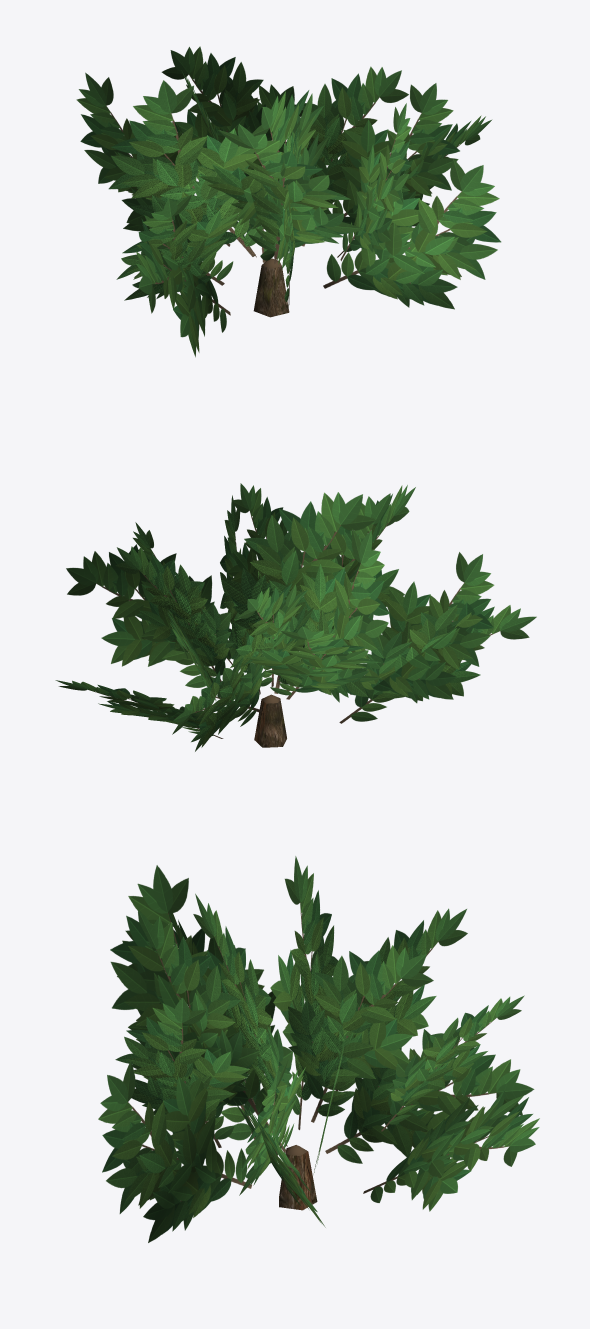
File: veg_shrub_hedge_a.glb
3 renders of one model, top to bottom at view 1: azimuth 30°, elevation 25°; view 2: azimuth 150°, elevation 25°; view 3: azimuth 270°, elevation 25°, orthographic. The views are drawn at different scales.
Visible parts, largest first — view 1: Leaves, Trunk; view 2: Leaves, Trunk; view 3: Leaves, Trunk.
Part boxes in pixels (x1,y1,x2,y2): Leaves: (76,46,501,357); Trunk: (253,258,289,317); Leaves: (55,483,536,751); Trunk: (254,694,286,747); Leaves: (98,856,539,1242); Trunk: (279,1145,317,1210).
Size of the model in its own units: 11.06 by 7.34 by 9.27.
2 materials, 2 textured.
